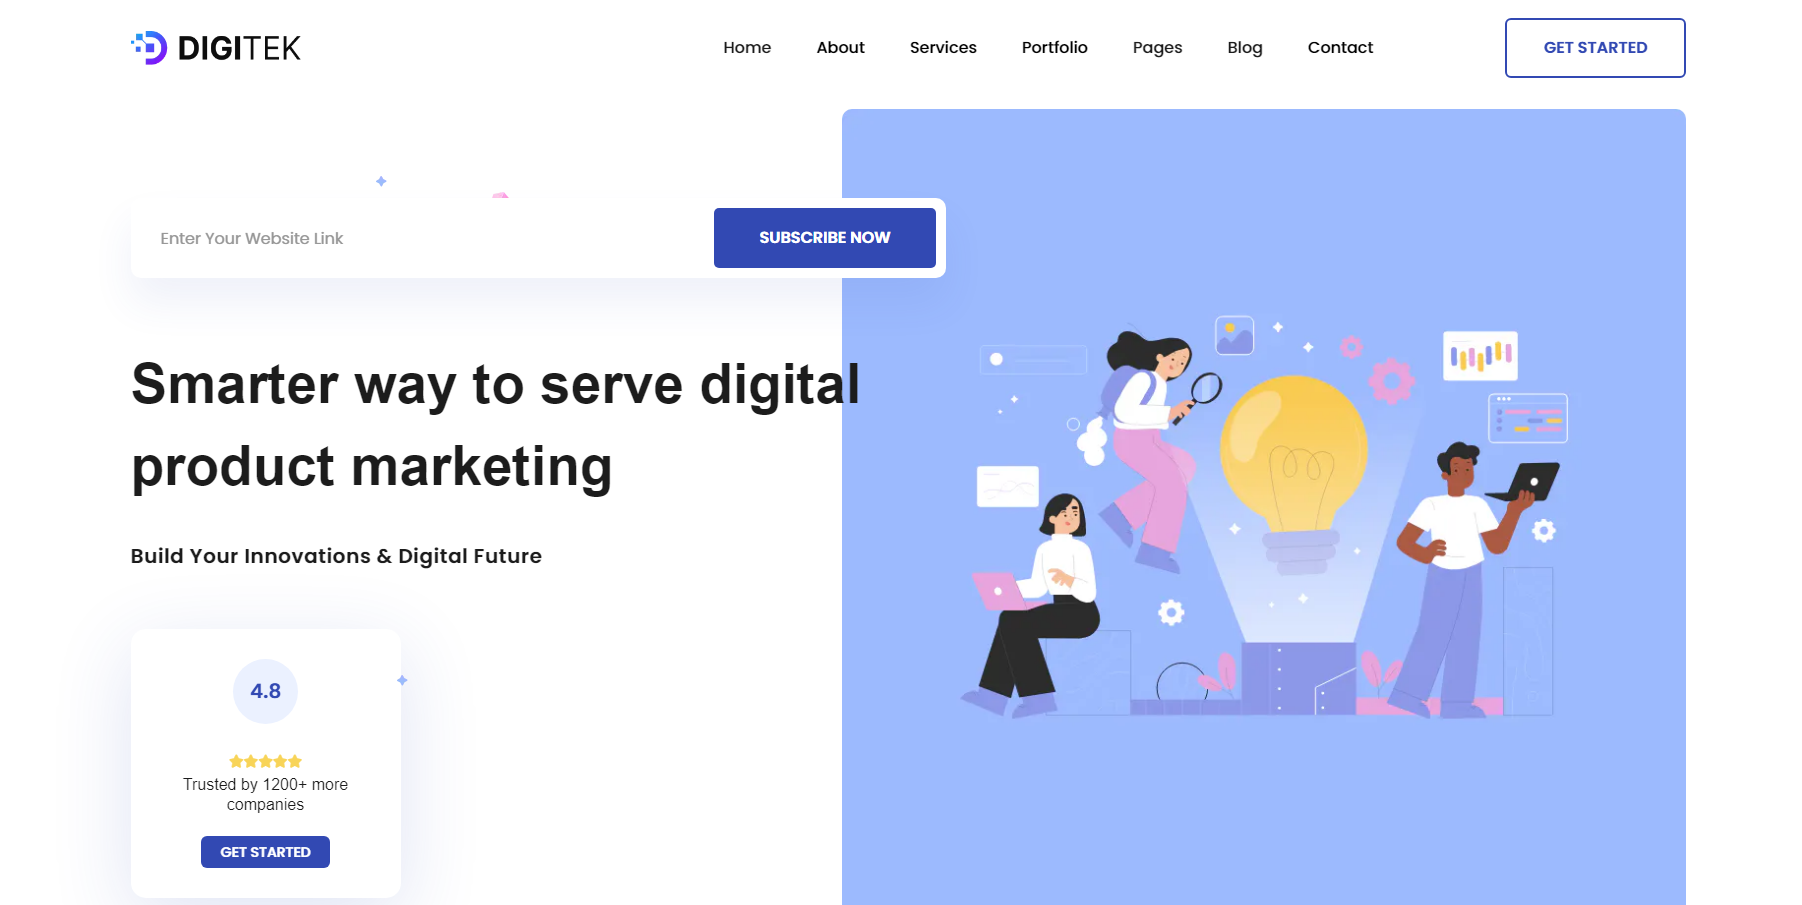menu-bar: (53, 20, 1797, 184)
